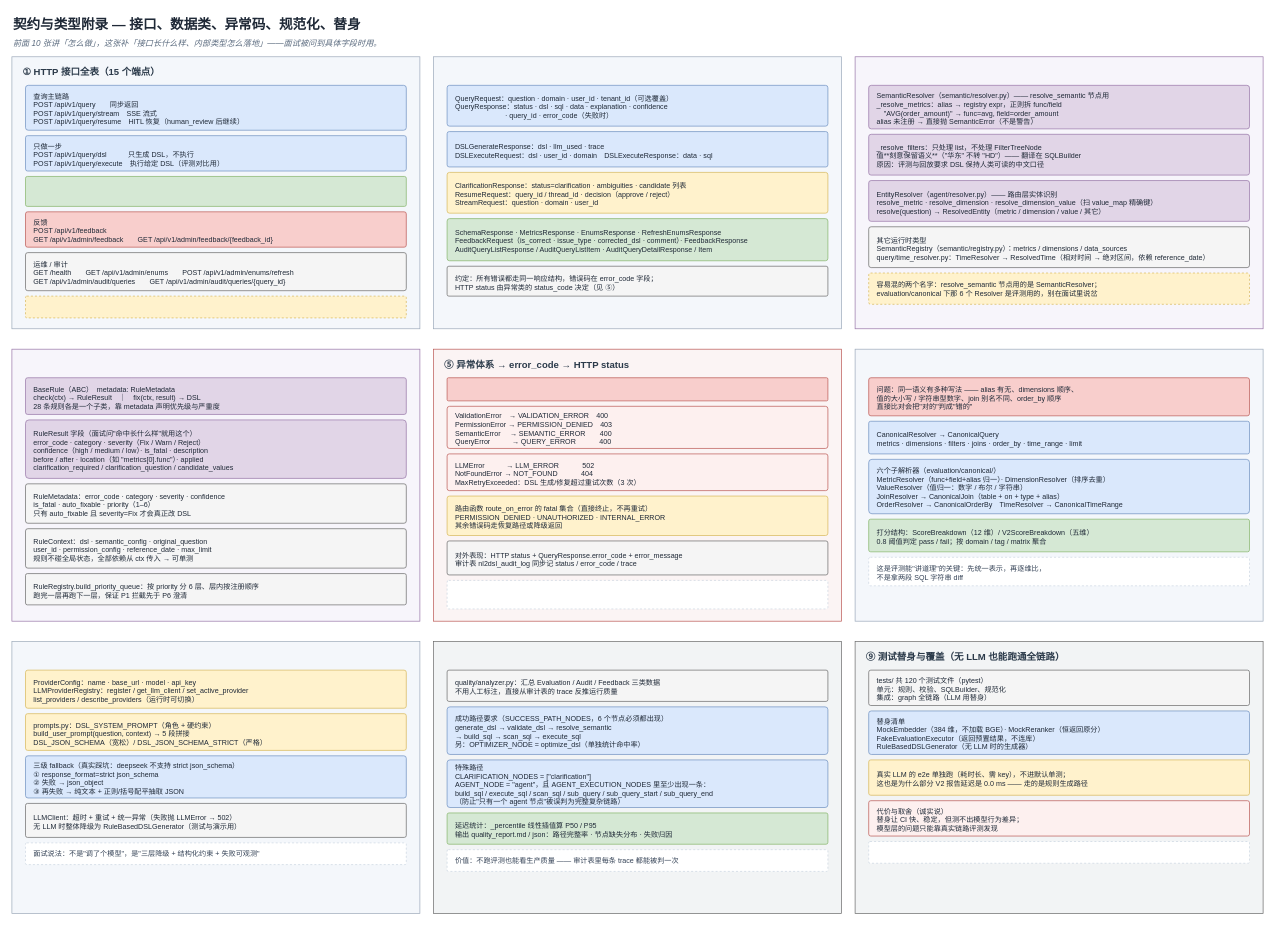
Some shapes in this 1275 by 925 pixel diagram are drawn without their labels. Each missing label, with the box of its shape:
NL2DSLException（基类，error_code = INTERNAL_ERROR，500）: (446, 377, 828, 401)
② 请求 / 响应模型族（Pydantic）: (433, 56, 842, 329)
③ 运行时语义解析（不是评测里的 canonical）: (854, 56, 1263, 329)
④ 规则类的数据结构（optimizer/base.py）: (11, 348, 420, 621)
⑥ 评测规范化 canonical（为什么分数可比）: (854, 348, 1263, 621)
⑦ LLM 接入与结构化输出: (11, 641, 420, 914)
⑧ 质量报告：从 trace 判定这条查询走没走对: (433, 641, 842, 914)
一句话：错误分层清楚 —— 语义错 400、权限错 403、模型错 502、内部错 500， 前端能据此决定是让用户改问题还是等重试: (446, 580, 828, 609)
元数据 GET /api/v1/schema GET /api/v1/metrics: (25, 176, 406, 206)
注意：admin 系列没有鉴权中间件 —— user_id 由调用方传入（真实缺口，已在 08 图标注）: (25, 295, 406, 318)
面试口径："120 个测试文件，核心链路可以在没有模型的情况下回归": (868, 841, 1250, 863)
